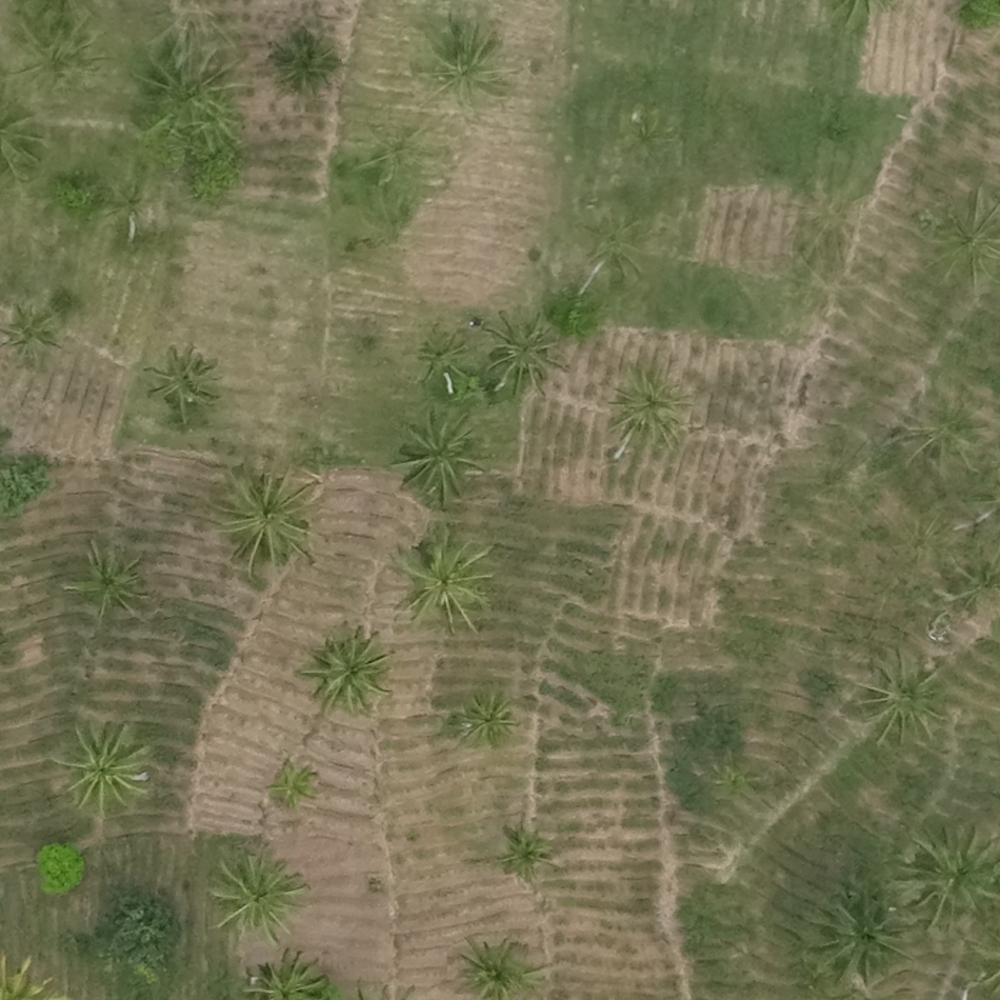Palm: (391, 528, 492, 632), (222, 466, 325, 567), (815, 880, 908, 976), (849, 651, 943, 742), (910, 827, 999, 923), (52, 723, 145, 810), (420, 21, 508, 110), (305, 629, 390, 721), (481, 309, 567, 399), (400, 414, 484, 506), (215, 849, 302, 931), (922, 193, 1000, 283), (65, 539, 143, 625), (611, 364, 691, 447), (149, 341, 224, 421), (269, 29, 341, 96), (452, 934, 523, 1000), (1, 298, 66, 362), (407, 319, 469, 383), (487, 823, 553, 882), (455, 688, 513, 742), (262, 757, 315, 813)
